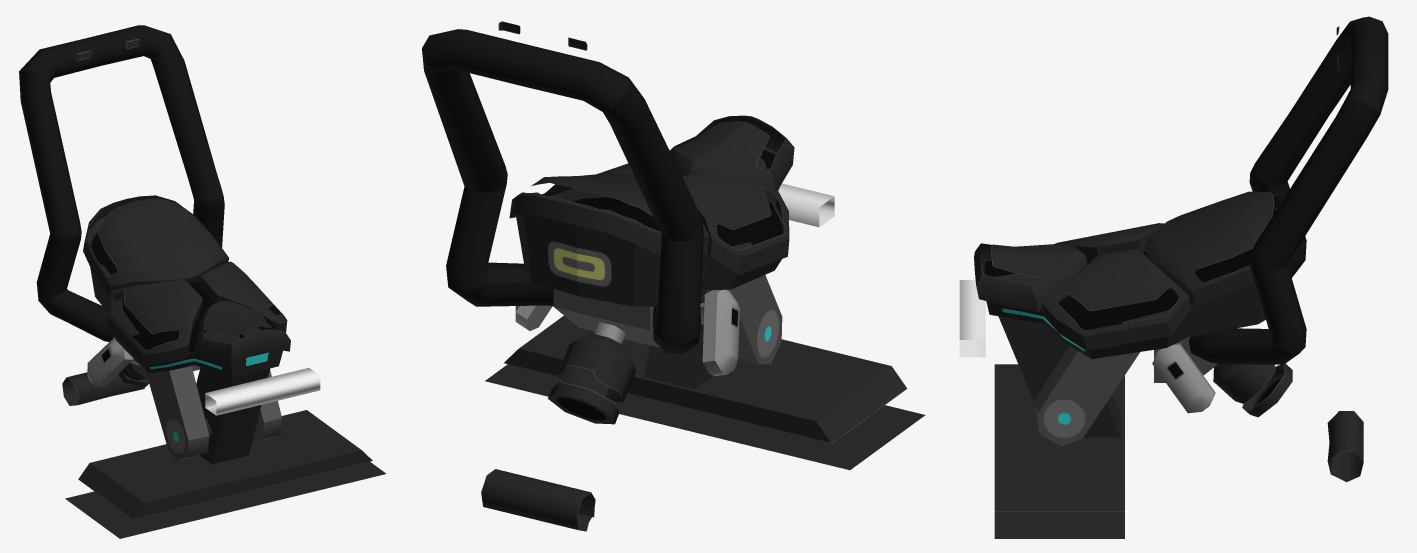
Rendered from obj_interactive_saddle_04.fbx.
The picture shows the model from 3 angles, left to right: view 1: azimuth 30°, elevation 25°; view 2: azimuth 150°, elevation 25°; view 3: azimuth 270°, elevation 25°; orthographic projection. The views are drawn at different scales.
Parts seen in each view (by area): view 1: obj_interactive_saddle_04; view 2: obj_interactive_saddle_04; view 3: obj_interactive_saddle_04.
Part boxes in pixels (<box>): obj_interactive_saddle_04: <box>19,25,386,538</box>; obj_interactive_saddle_04: <box>422,21,925,531</box>; obj_interactive_saddle_04: <box>959,16,1388,538</box>.
Bounding box in the file's own units: 2.77 × 3.62 × 3.42.
